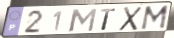1: (52, 10, 63, 32)
2: (23, 10, 45, 35)
M: (139, 4, 170, 32), (68, 8, 99, 33)
T: (99, 8, 117, 31)
X: (117, 6, 144, 32)
